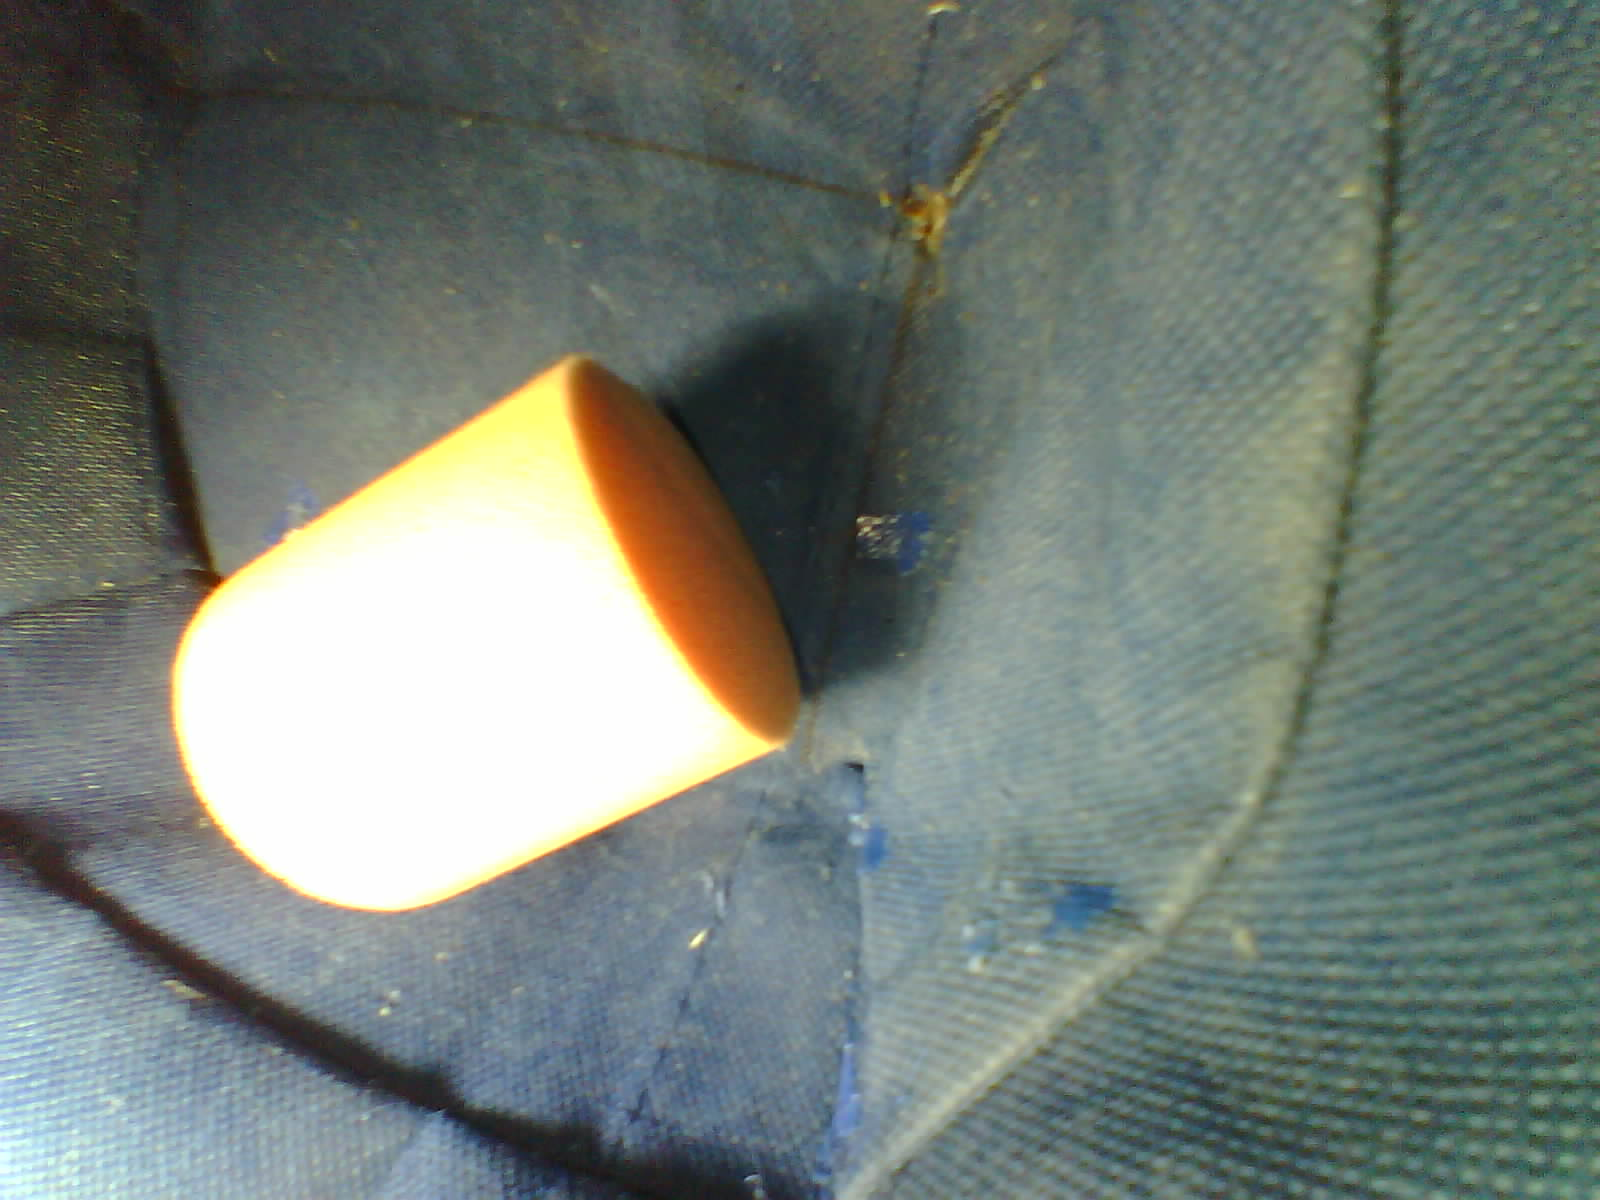cylinder-soft: (149, 354, 826, 928)
